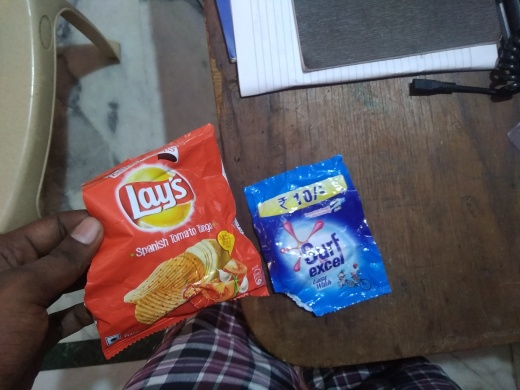lays: (65, 138, 267, 343)
surf: (239, 154, 392, 319)
